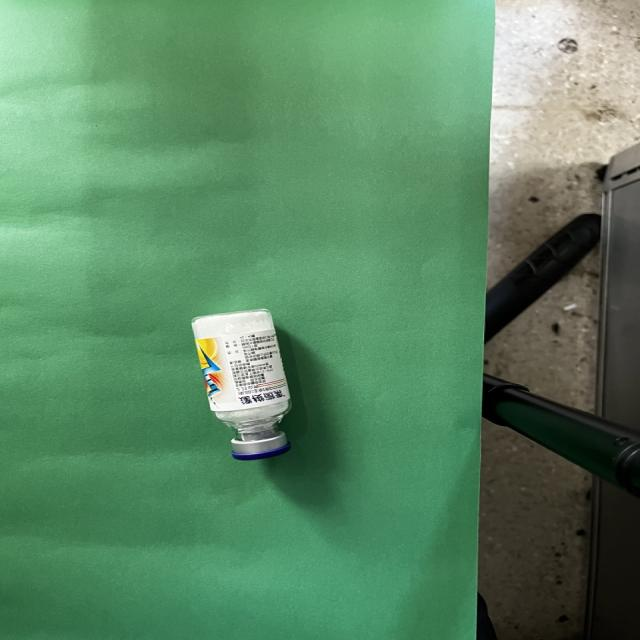Vials: (192, 310, 291, 460)
